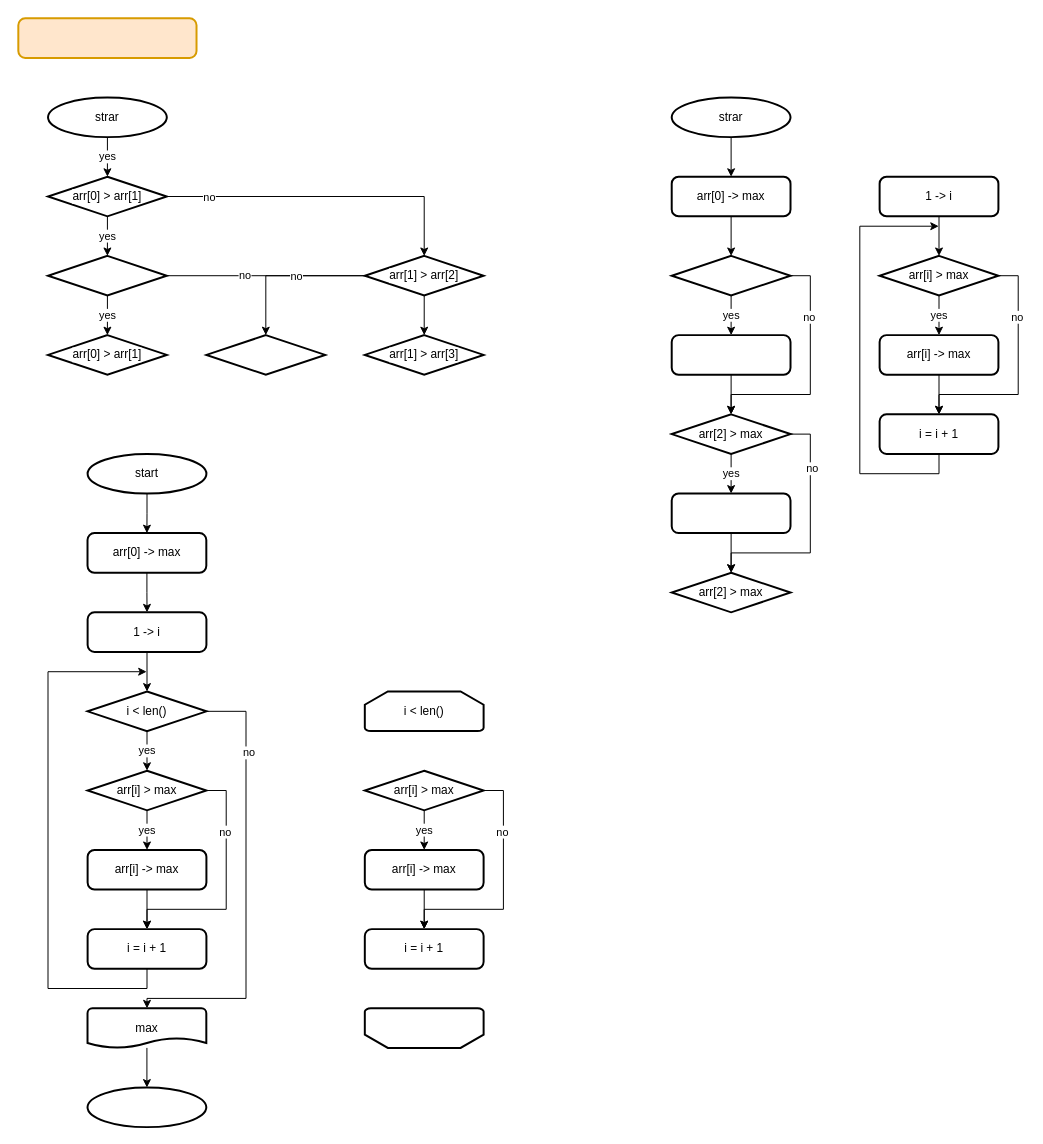
This 1043x1144 diagram has some shape labels left out. The box of each missing label's shape, as (x1, y1, x2, y2) in pixels:
arr[0] > arr[2]: (47, 254, 167, 296)
arr[1] -> max: (670, 334, 791, 375)
arr[1] > max: (670, 254, 791, 296)
arr[2] -> max: (670, 492, 791, 534)
arr[2] > arr[3]: (205, 334, 326, 375)
end: (86, 1086, 207, 1128)
최대값을 찾는 알고리즘: (17, 17, 197, 58)
